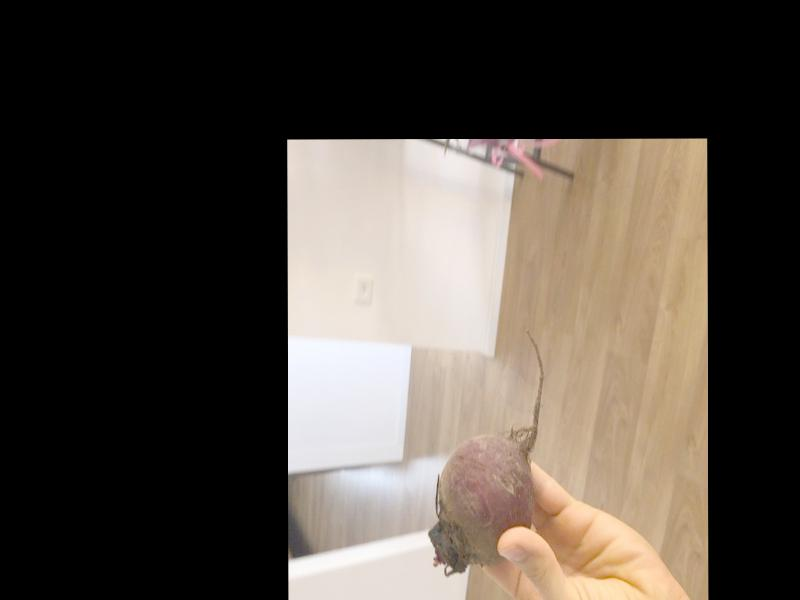Beet: (429, 329, 543, 573)
